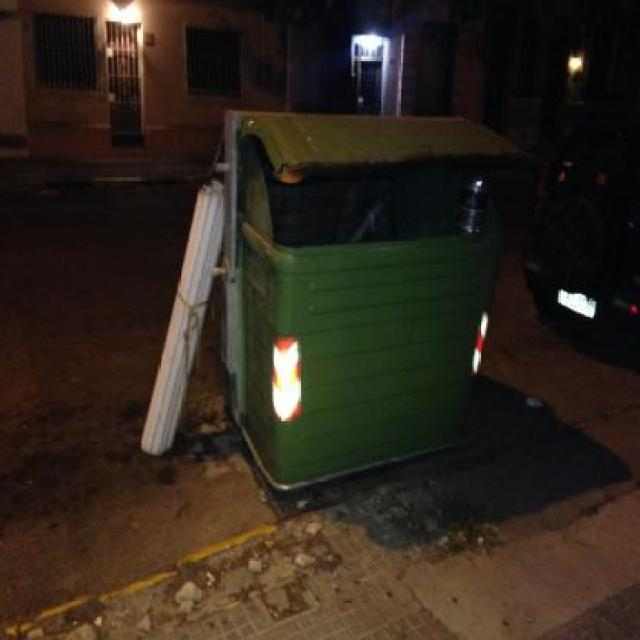garbage: (242, 525, 352, 585), (196, 389, 252, 484), (405, 488, 480, 555), (156, 559, 210, 615)
